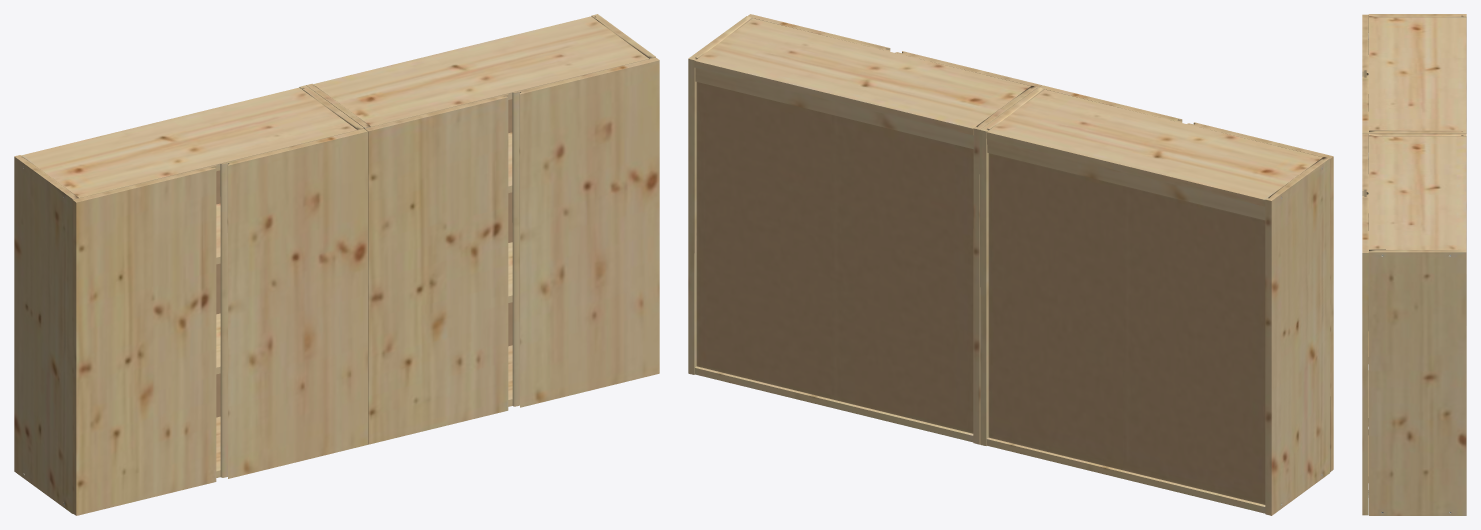
Rendered from ivar_szafka_scienna_z_drzwiami_09417382.glb.
3 views of the same model, side by side, from view 1: azimuth 30°, elevation 25°; view 2: azimuth 150°, elevation 25°; view 3: azimuth 270°, elevation 25° (orthographic). The views are drawn at different scales.
Visible parts, largest first — view 1: ivar_szafka_scienna_z_drzwiami_09417382; view 2: ivar_szafka_scienna_z_drzwiami_09417382; view 3: ivar_szafka_scienna_z_drzwiami_09417382.
Boxes of the visible parts, x1=… form: ivar_szafka_scienna_z_drzwiami_09417382: x1=14, y1=14, x2=659, y2=515; ivar_szafka_scienna_z_drzwiami_09417382: x1=688, y1=14, x2=1333, y2=515; ivar_szafka_scienna_z_drzwiami_09417382: x1=1362, y1=14, x2=1466, y2=515.
Bounding box in the file's own units: 1.6 × 0.826 × 0.2956.
1 material, 1 textured.
